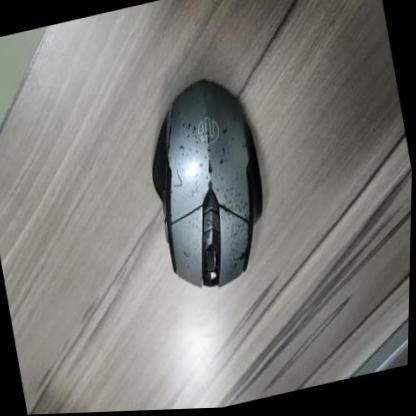mouserotation: (131, 69, 284, 305)
